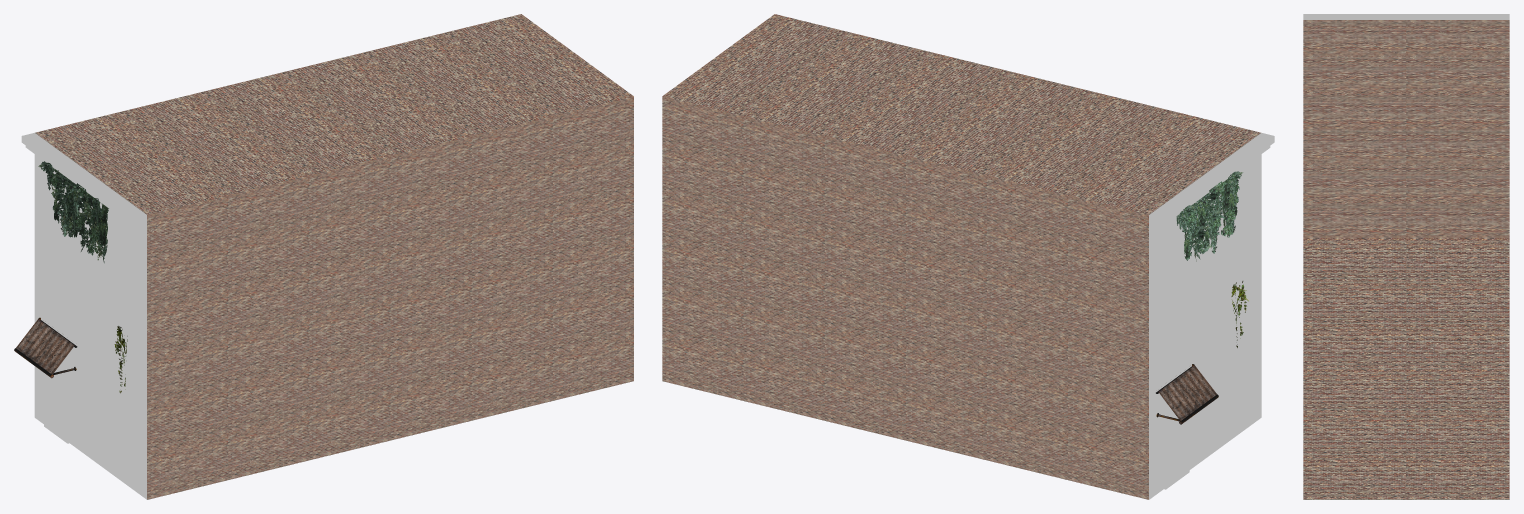
The model's file is House2_2.fbx.
3 views of the same model, side by side, from view 1: azimuth 30°, elevation 25°; view 2: azimuth 150°, elevation 25°; view 3: azimuth 270°, elevation 25° (orthographic). The views are drawn at different scales.
Parts seen in each view (by area): view 1: house2_2; view 2: house2_2; view 3: house2_2.
Part boxes in pixels (x1,y1,x2,y2): house2_2: [14, 14, 633, 499]; house2_2: [662, 14, 1274, 499]; house2_2: [1303, 14, 1509, 499].
Size of the model in its own units: 1615 by 856 by 612.
